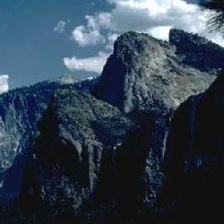neutral: (3, 4, 221, 222)
